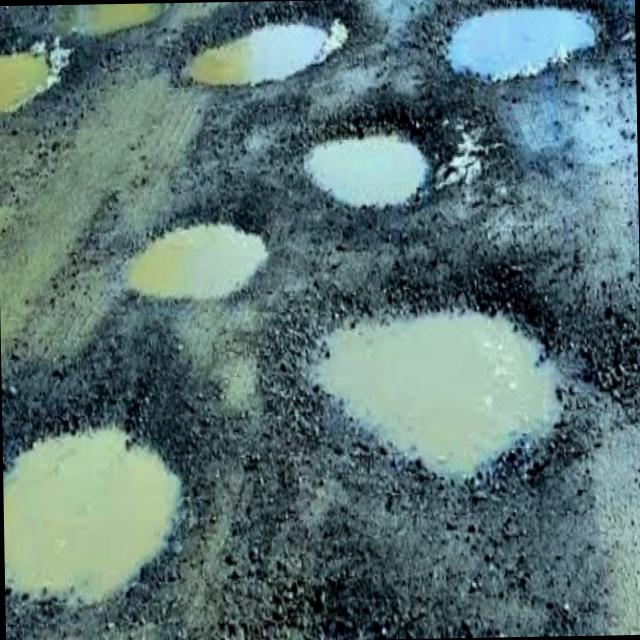bad-road: (304, 268, 580, 492), (4, 415, 190, 606), (176, 1, 356, 86), (122, 205, 270, 303), (439, 0, 618, 80), (294, 115, 432, 212), (0, 37, 73, 117), (77, 3, 171, 36)
